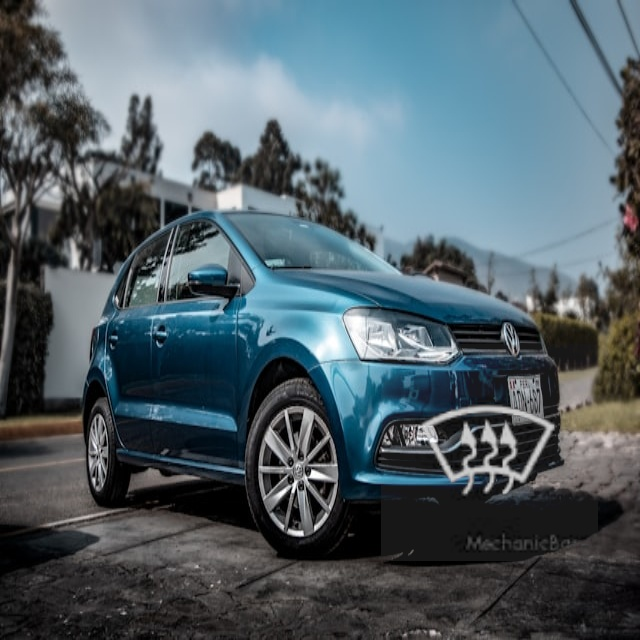symbol: (381, 344, 598, 561)
